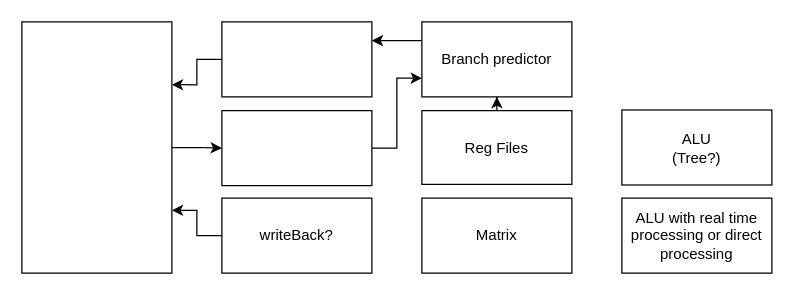
The diagram is 794 pixels wide and 295 high, and some of its shapes have lost their labels. Here are the shapes that lost their labels. From the top down, the centre of each, then its label:
the point at 296,59: Fetch
the point at 96,147: (shared?) Mem
the point at 296,147: Decode
